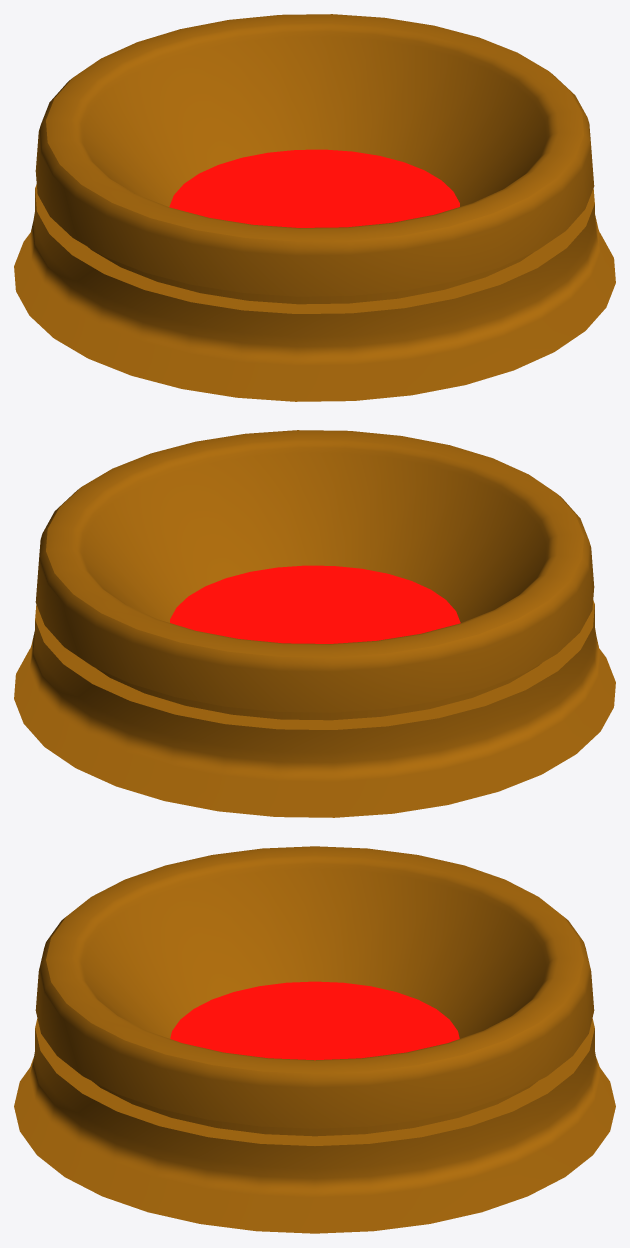
The model's file is Source_Base_Parts01.fbx.
3 renders of one model, top to bottom at view 1: azimuth 30°, elevation 25°; view 2: azimuth 150°, elevation 25°; view 3: azimuth 270°, elevation 25°, orthographic.
Parts seen in each view (by area): view 1: Source_BaseCircle; view 2: Source_BaseCircle; view 3: Source_BaseCircle.
Part boxes in pixels (bbox=[...]): Source_BaseCircle: bbox=[14, 14, 615, 401]; Source_BaseCircle: bbox=[14, 430, 615, 817]; Source_BaseCircle: bbox=[14, 846, 615, 1233].
Size of the model in its own units: 179 by 48.64 by 179.
